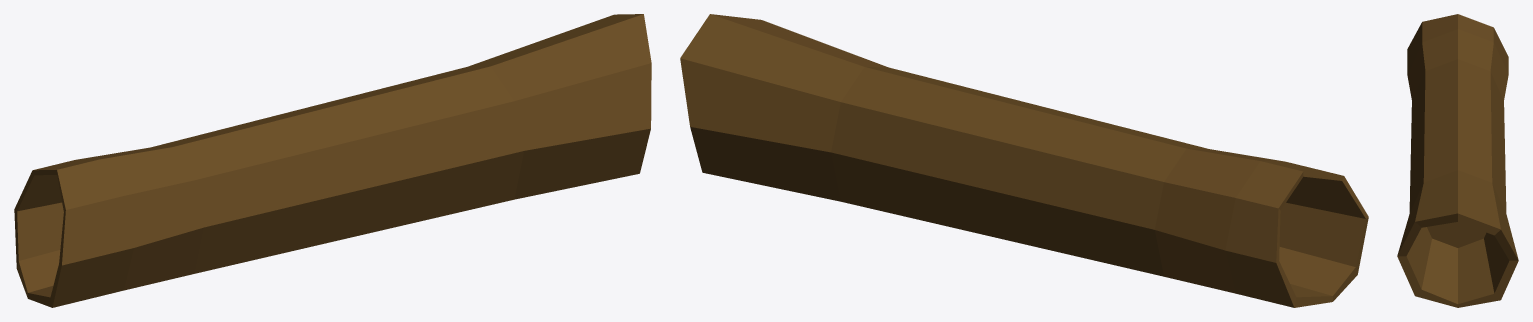
The model's file is asset_deadtrunks_01.fbx.
The picture shows the model from 3 angles, left to right: view 1: azimuth 30°, elevation 25°; view 2: azimuth 150°, elevation 25°; view 3: azimuth 270°, elevation 25°; orthographic projection. The views are drawn at different scales.
Parts seen in each view (by area): view 1: Dead_Trunc01; view 2: Dead_Trunc01; view 3: Dead_Trunc01.
Boxes of the visible parts, bbox=[...] form: Dead_Trunc01: bbox=[14, 14, 651, 307]; Dead_Trunc01: bbox=[680, 14, 1368, 307]; Dead_Trunc01: bbox=[1397, 14, 1518, 307].
Size of the model in its own units: 540 by 118 by 127.
